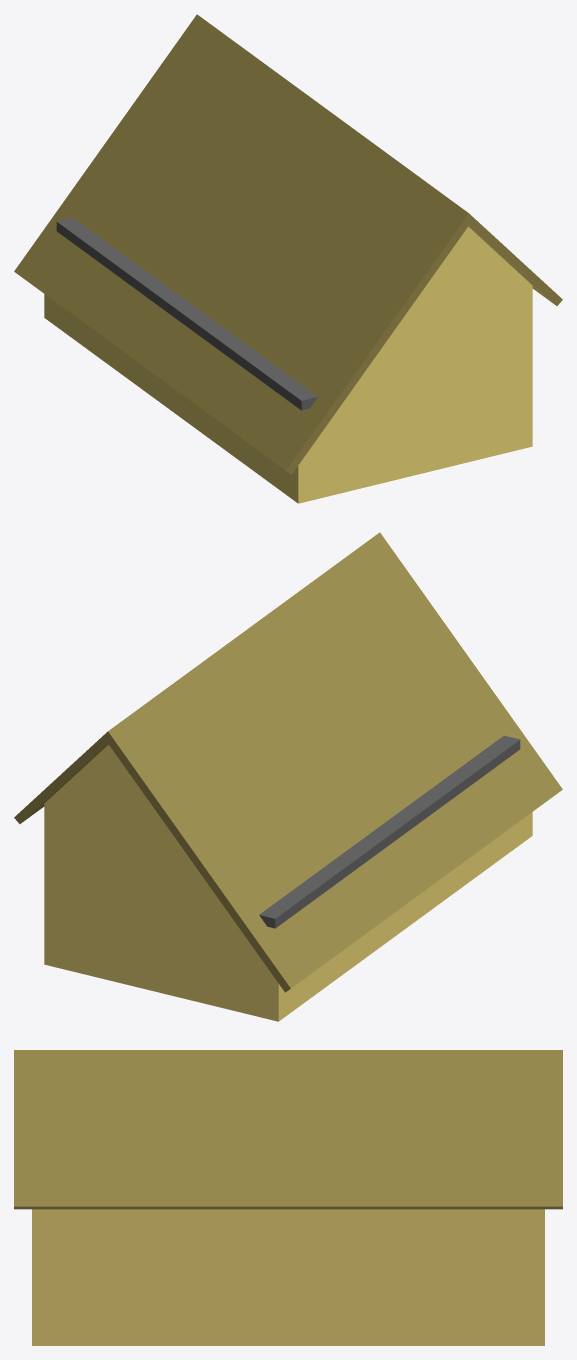
Rendered from result.glb.
The picture shows the model from 3 angles, top to bottom: view 1: azimuth 30°, elevation 25°; view 2: azimuth 150°, elevation 25°; view 3: azimuth 270°, elevation 25°; orthographic projection.
Parts seen in each view (by area): view 1: 28671179-0c59-44e6-ba60-10c77027cdb1__undefined (×2), bf62f959-f078-4c0a-9ab7-f3d3d7c81c21__undefined, 7ad8e398-fb94-4838-ac6c-3853e245bc30__Box; view 2: 28671179-0c59-44e6-ba60-10c77027cdb1__undefined (×2), bf62f959-f078-4c0a-9ab7-f3d3d7c81c21__undefined, 7ad8e398-fb94-4838-ac6c-3853e245bc30__Box; view 3: 28671179-0c59-44e6-ba60-10c77027cdb1__undefined, bf62f959-f078-4c0a-9ab7-f3d3d7c81c21__undefined.
Boxes of the visible parts, x1=… form: 28671179-0c59-44e6-ba60-10c77027cdb1__undefined (×2): x1=14, y1=14, x2=562, y2=474; bf62f959-f078-4c0a-9ab7-f3d3d7c81c21__undefined: x1=44, y1=226, x2=532, y2=503; 7ad8e398-fb94-4838-ac6c-3853e245bc30__Box: x1=56, y1=217, x2=317, y2=410; 28671179-0c59-44e6-ba60-10c77027cdb1__undefined (×2): x1=14, y1=532, x2=562, y2=992; bf62f959-f078-4c0a-9ab7-f3d3d7c81c21__undefined: x1=44, y1=744, x2=532, y2=1021; 7ad8e398-fb94-4838-ac6c-3853e245bc30__Box: x1=259, y1=735, x2=520, y2=928; 28671179-0c59-44e6-ba60-10c77027cdb1__undefined: x1=14, y1=1050, x2=562, y2=1209; bf62f959-f078-4c0a-9ab7-f3d3d7c81c21__undefined: x1=32, y1=1209, x2=544, y2=1345.
Size of the model in its own units: 890 by 791 by 1514.
